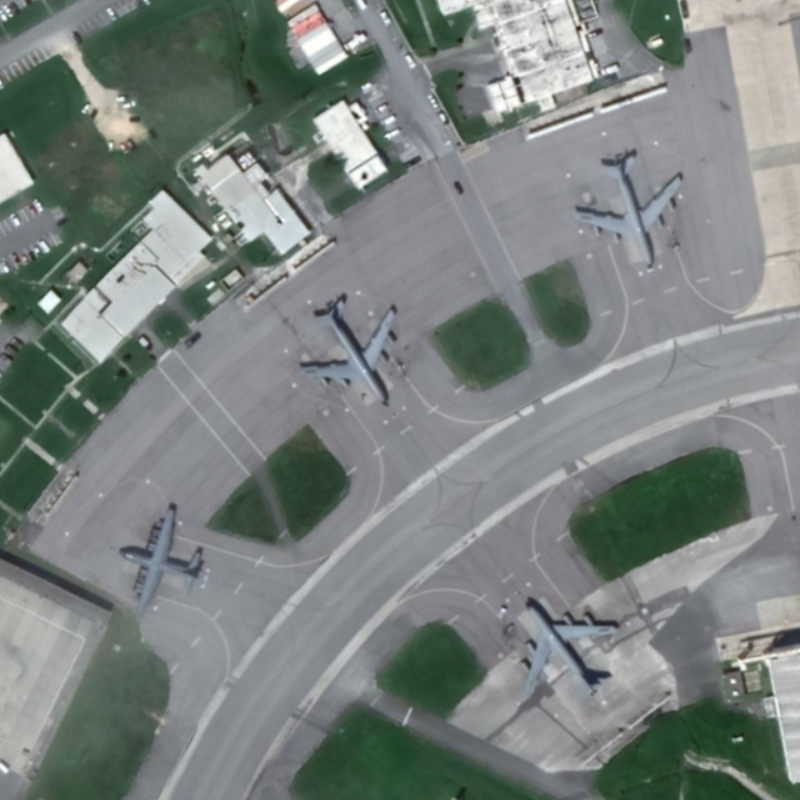A14: (565, 144, 693, 276), (512, 583, 632, 713), (295, 285, 407, 414)
A2: (115, 500, 210, 622)
